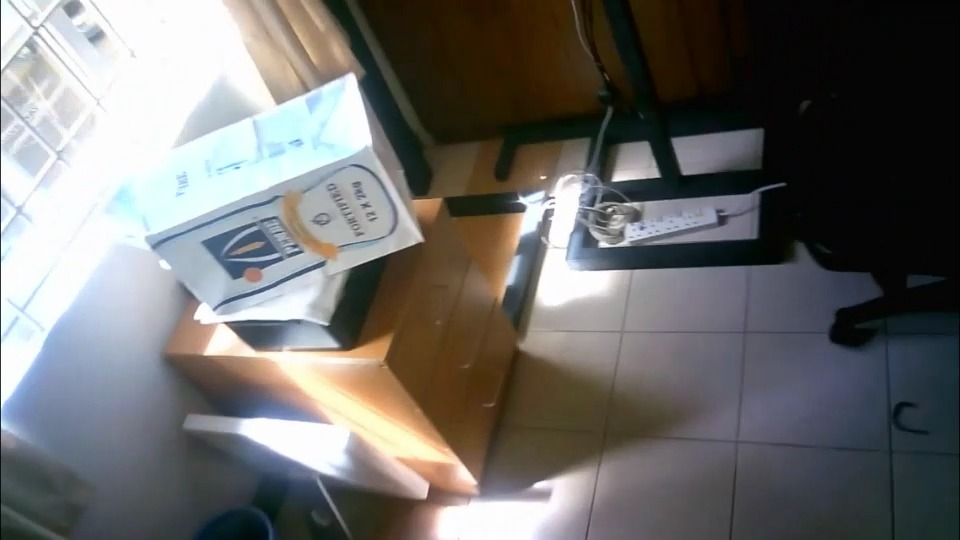wheat_flour_blue_label: (117, 73, 423, 316)
